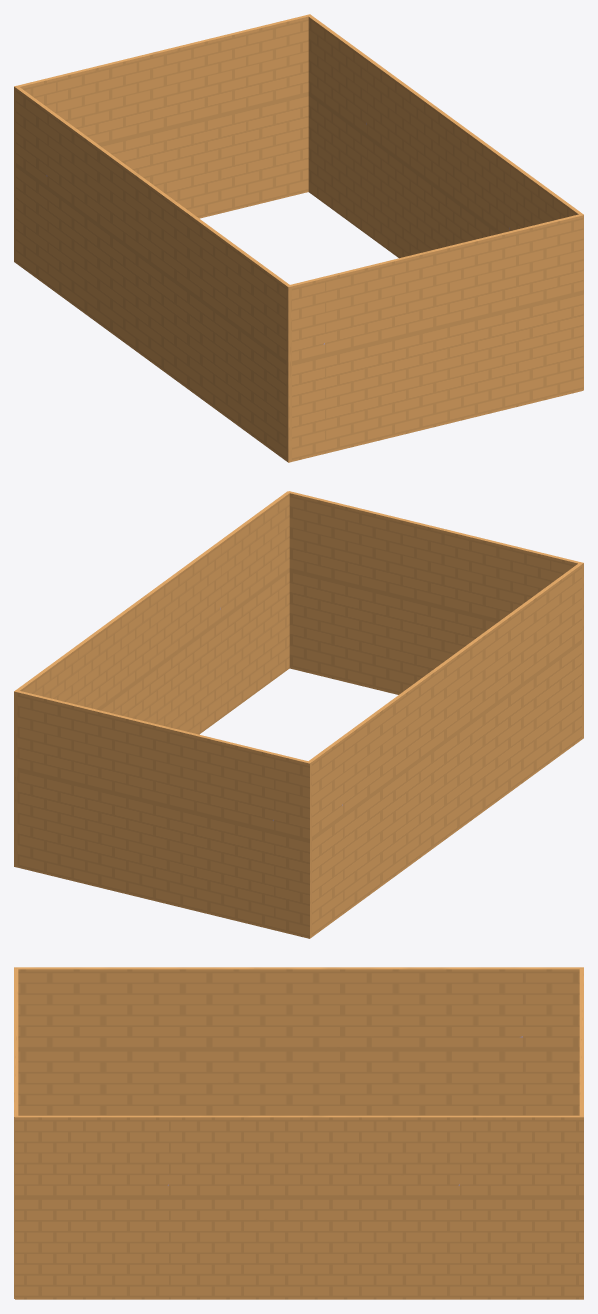
The model's file is MURTEST.fbx.
The picture shows the model from 3 angles, top to bottom: view 1: azimuth 30°, elevation 25°; view 2: azimuth 150°, elevation 25°; view 3: azimuth 270°, elevation 25°; orthographic projection. The views are drawn at different scales.
Visible parts, largest first — view 1: gymnasefinal:pCube7; view 2: gymnasefinal:pCube7; view 3: gymnasefinal:pCube7.
Part boxes in pixels (<box>): gymnasefinal:pCube7: <box>14,14,583,462</box>; gymnasefinal:pCube7: <box>14,491,583,938</box>; gymnasefinal:pCube7: <box>14,967,583,1299</box>.
Size of the model in its own units: 73.99 by 41.92 by 119.
1 material, 1 textured.
